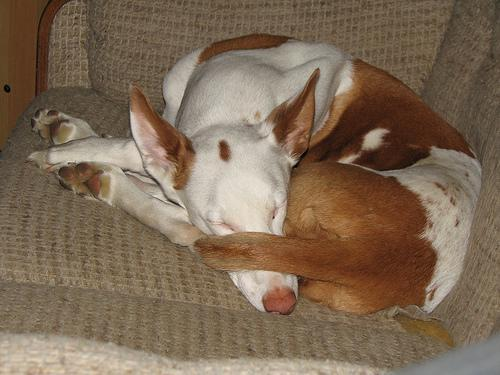Ibizan_hound: (23, 28, 483, 317)
